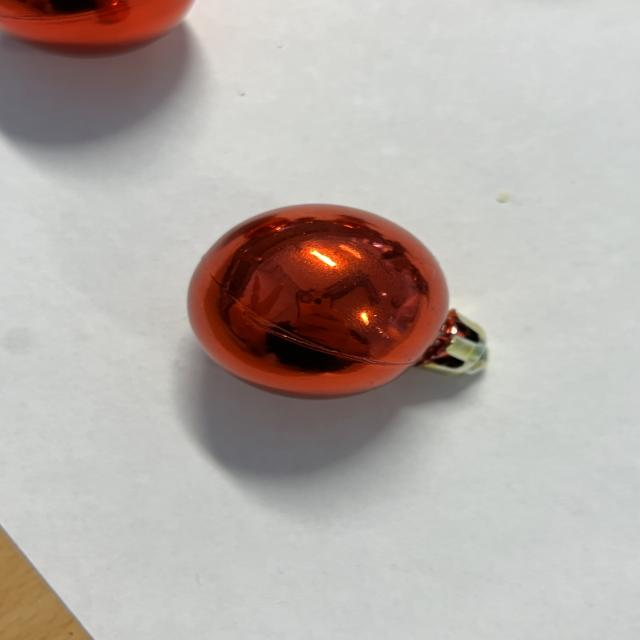glossy-bauble: (152, 185, 515, 417), (186, 205, 489, 402)
